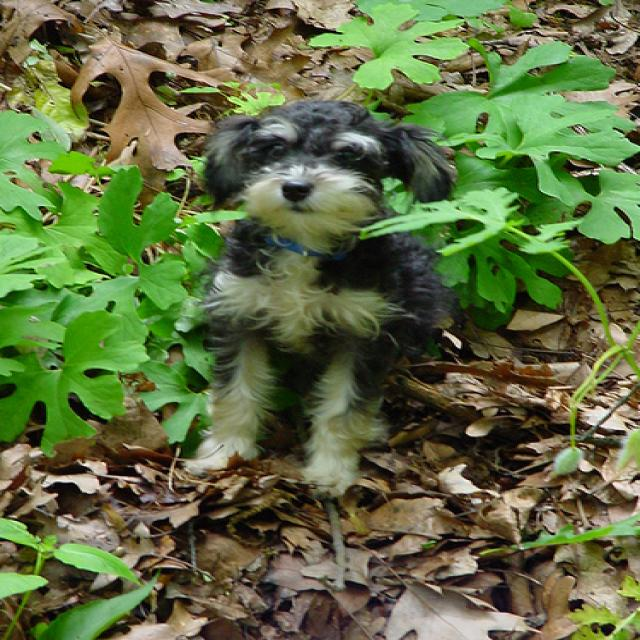dog: (178, 96, 462, 495)
